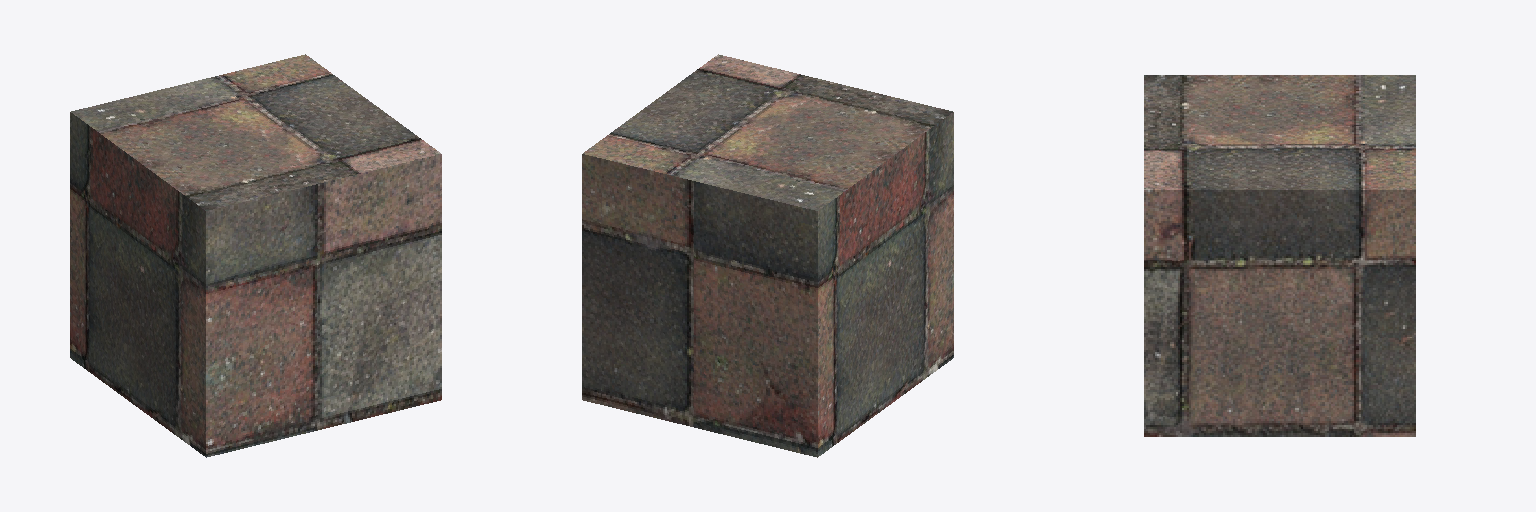
The picture shows the model from 3 angles: view 1: azimuth 30°, elevation 25°; view 2: azimuth 150°, elevation 25°; view 3: azimuth 270°, elevation 25°; orthographic projection.
Visible parts, largest first — view 1: Cube; view 2: Cube; view 3: Cube.
Boxes of the visible parts, box(x1,y1,x2,y2) form: Cube: box(70, 54, 441, 457); Cube: box(582, 54, 953, 457); Cube: box(1144, 75, 1415, 436).
Bounding box in the file's own units: 2 × 2 × 2.
Materials: 1 (1 with a texture image).